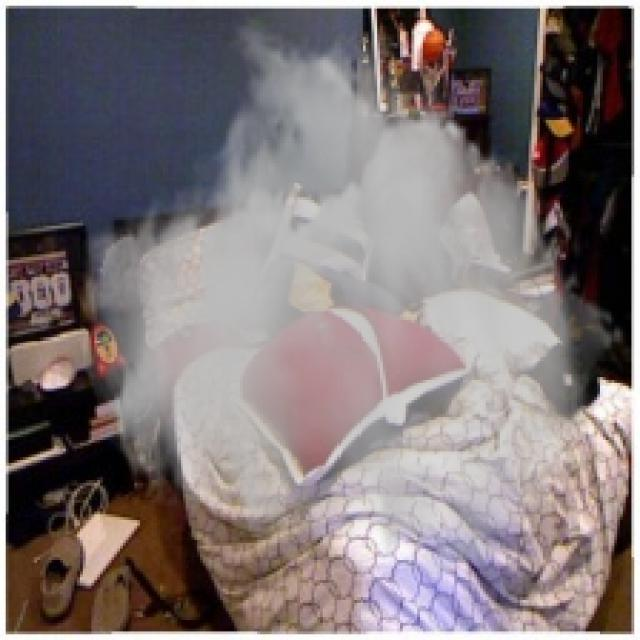smoke: (74, 14, 626, 580)
